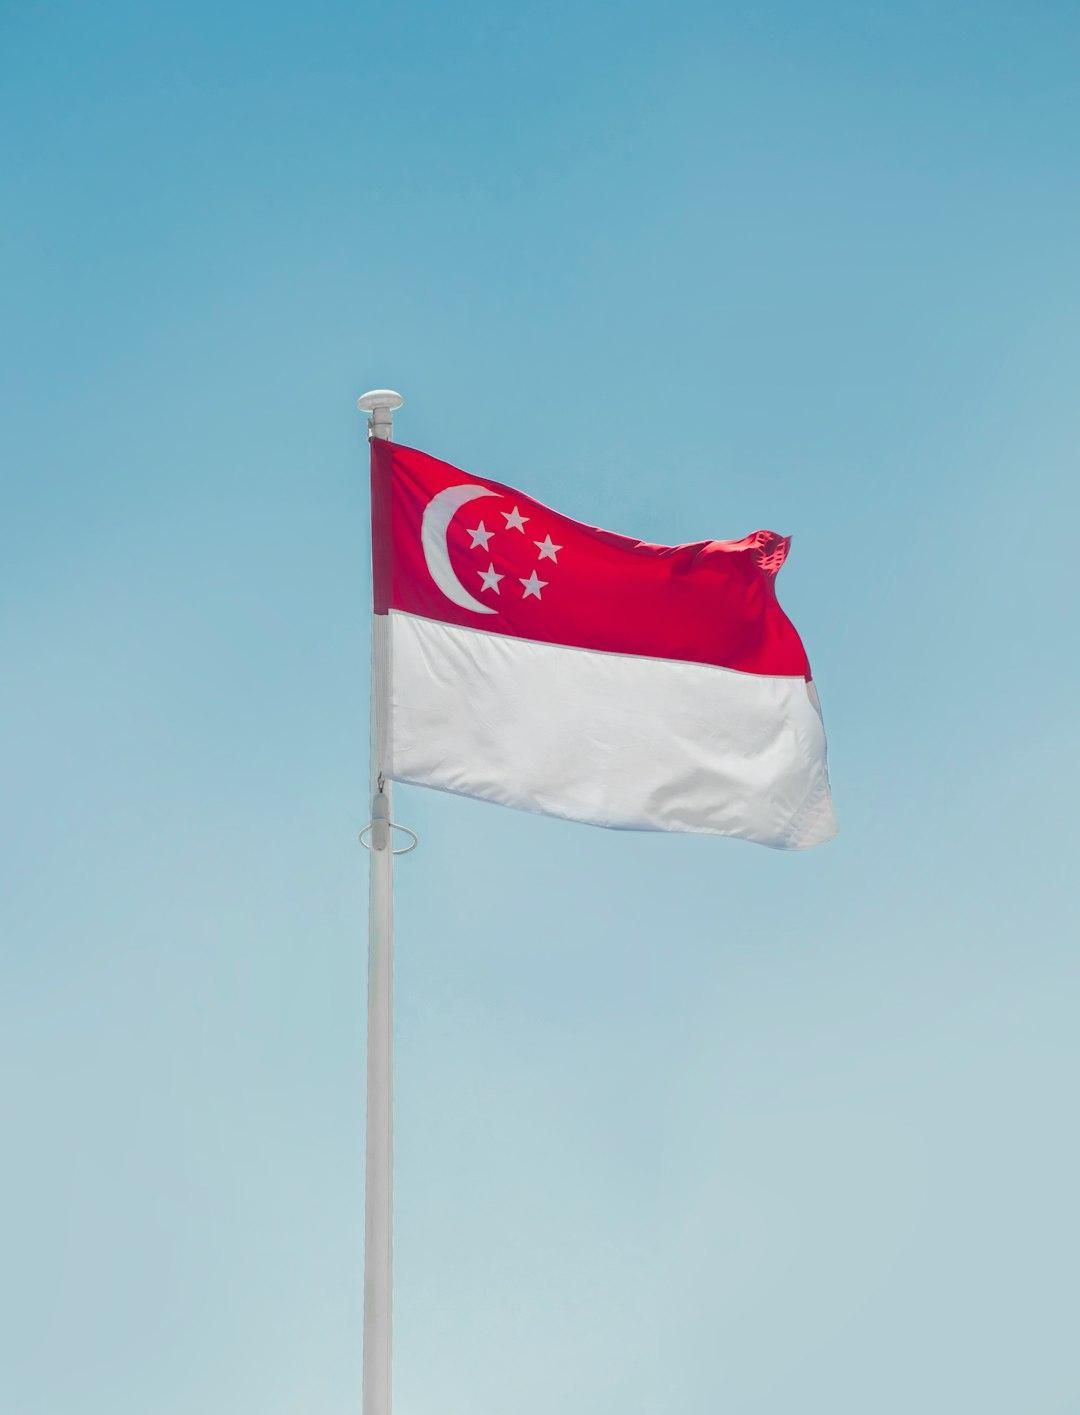Singapore: (370, 435, 841, 861)
